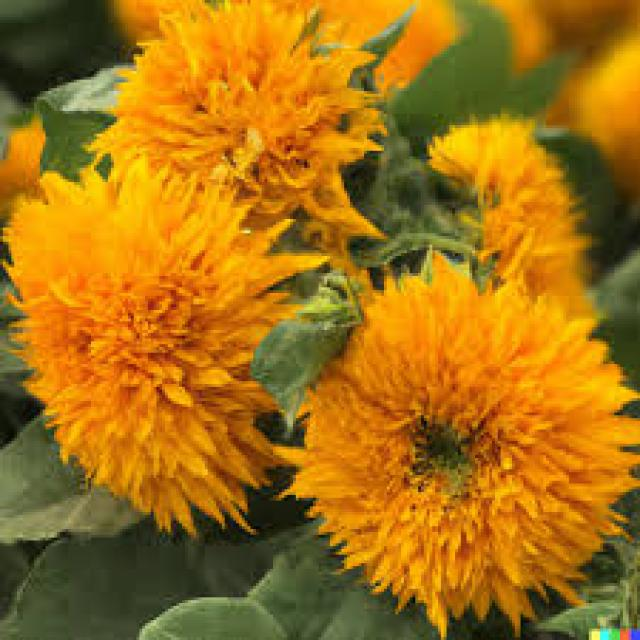sunflower: (264, 242, 640, 640), (0, 145, 353, 543), (82, 0, 389, 287), (416, 106, 604, 341), (0, 100, 51, 230)
